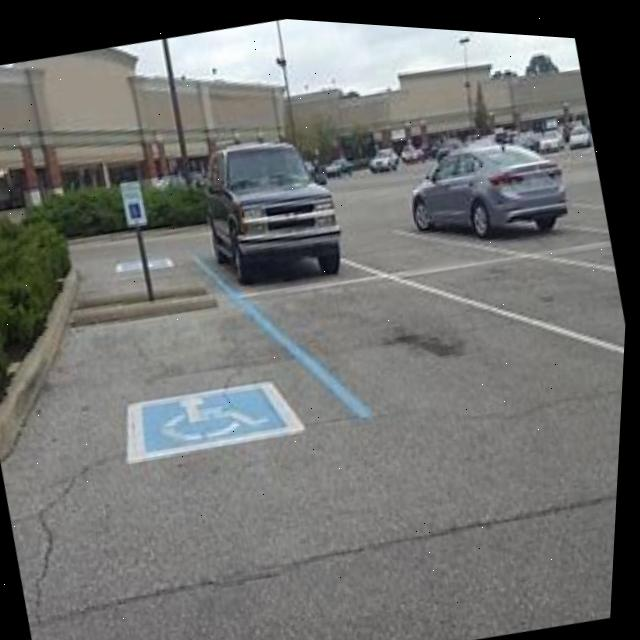symbol_of_access: (156, 374, 279, 450), (130, 198, 148, 217)
